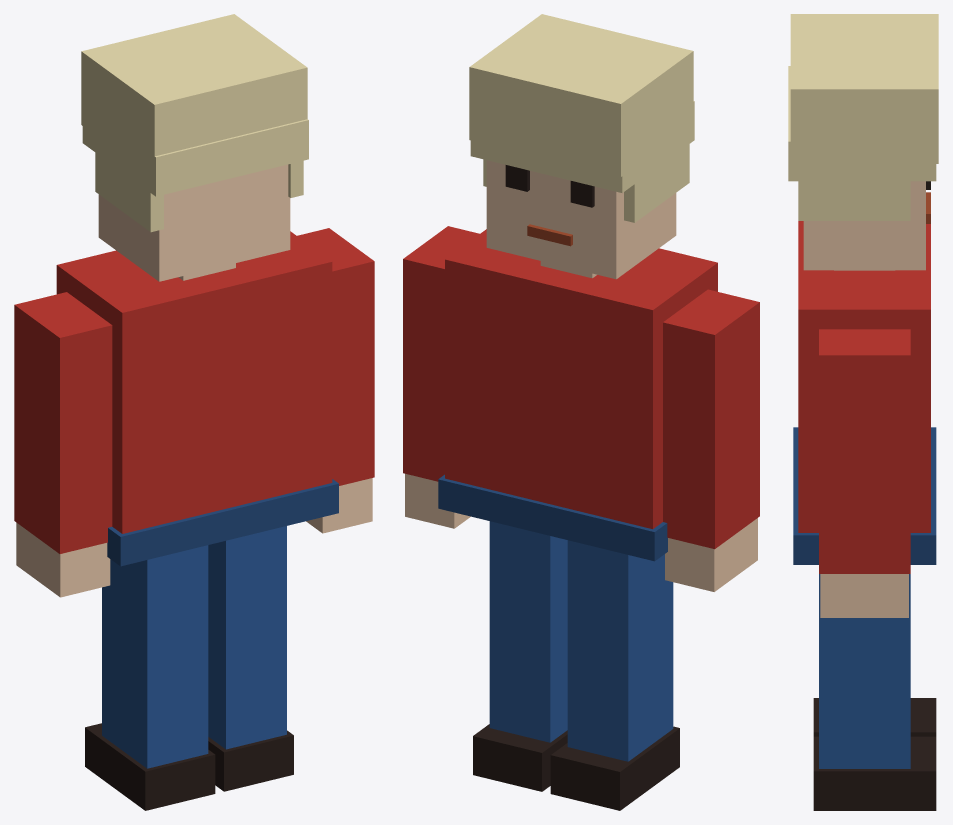
Rendered from clerk_toys.glb.
3 views of the same model, side by side, from view 1: azimuth 30°, elevation 25°; view 2: azimuth 150°, elevation 25°; view 3: azimuth 270°, elevation 25° (orthographic). The views are drawn at different scales.
Visible parts, largest first — view 1: Box9, Box18, Box3, Box1, Box5, Box12, Box7, Box19, Box10, Box2, Box4, Box6 (+2 smaller); view 2: Box9, Box18, Box3, Box1, Box5, Box12, Box7, Box10, Box2, Box19, Box6, Box4 (+2 smaller); view 3: Box7, Box18, Box9, Box5, Box12, Box6, Box19, Box21, Box8, Box10, Box2.
Part boxes in pixels (<box>): Box9: <box>56,231,332,533</box>; Box18: <box>81,14,307,178</box>; Box3: <box>14,292,112,553</box>; Box1: <box>102,545,208,768</box>; Box5: <box>208,526,286,749</box>; Box12: <box>98,164,290,281</box>; Box7: <box>297,228,374,485</box>; Box19: <box>82,105,308,196</box>; Box10: <box>107,479,338,566</box>; Box2: <box>85,723,215,810</box>; Box4: <box>16,522,110,597</box>; Box6: <box>208,730,293,791</box>; Box9: <box>445,229,717,529</box>; Box18: <box>469,14,693,176</box>; Box3: <box>663,289,759,549</box>; Box1: <box>567,540,673,761</box>; Box5: <box>489,521,567,742</box>; Box12: <box>486,160,676,279</box>; Box7: <box>403,226,479,481</box>; Box10: <box>438,474,667,561</box>; Box2: <box>550,726,679,810</box>; Box19: <box>470,101,694,192</box>; Box6: <box>473,724,567,791</box>; Box4: <box>665,518,757,591</box>; Box7: <box>819,329,910,573</box>; Box18: <box>790,14,938,163</box>; Box9: <box>798,221,930,532</box>; Box5: <box>819,574,910,768</box>; Box12: <box>803,181,925,270</box>; Box6: <box>813,736,936,810</box>; Box19: <box>788,66,936,181</box>; Box21: <box>798,152,910,220</box>; Box8: <box>820,574,908,617</box>; Box10: <box>793,427,936,564</box>; Box2: <box>813,698,936,736</box>.
Bounding box in the file's own units: 0.8165 × 1.77 × 0.3345.
